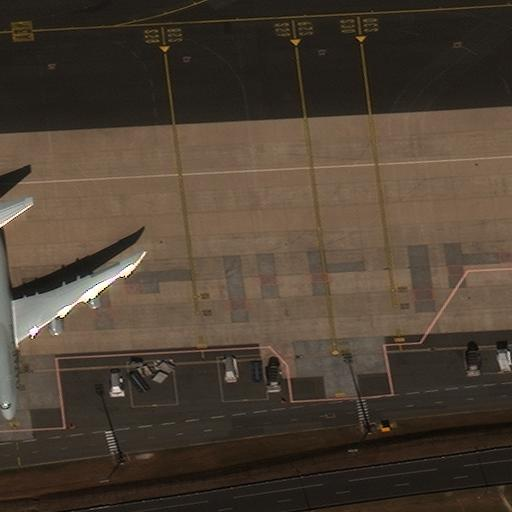Large Civil Transport: (0, 209, 133, 418)
